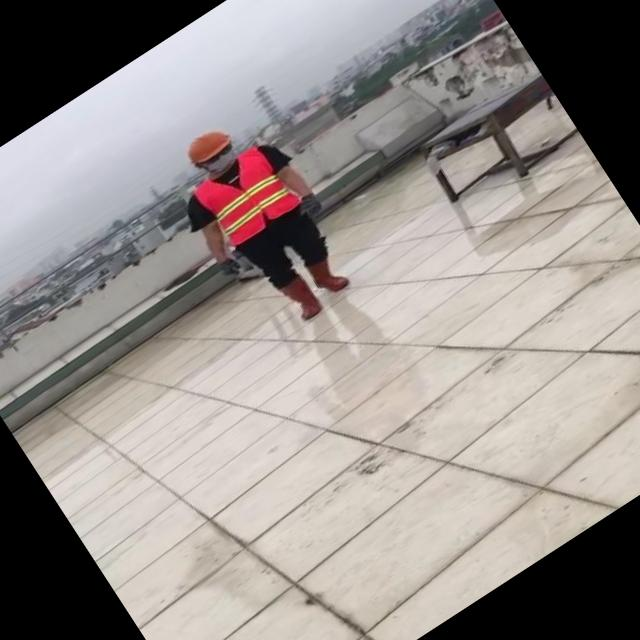hard_hat: (174, 118, 240, 174)
safety_vest: (190, 140, 302, 250)
vehicle: (144, 91, 378, 353)
work_boots: (272, 267, 328, 326), (300, 248, 354, 302)
